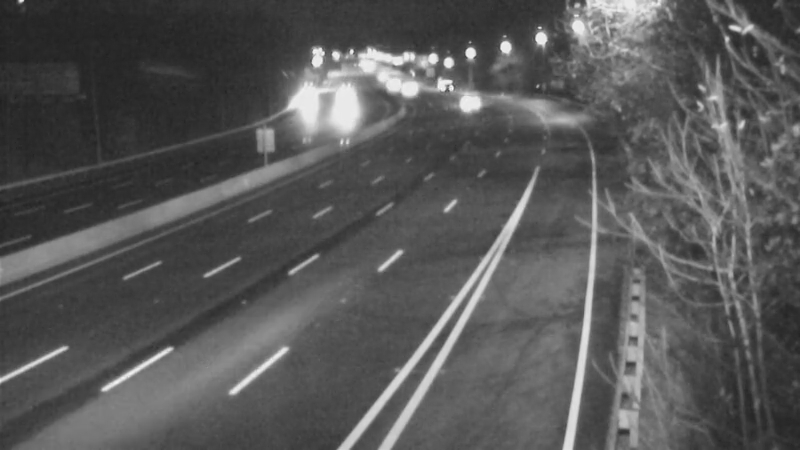vehicle: (418, 61, 468, 111), (384, 63, 434, 113), (446, 77, 496, 127), (319, 78, 369, 128)
